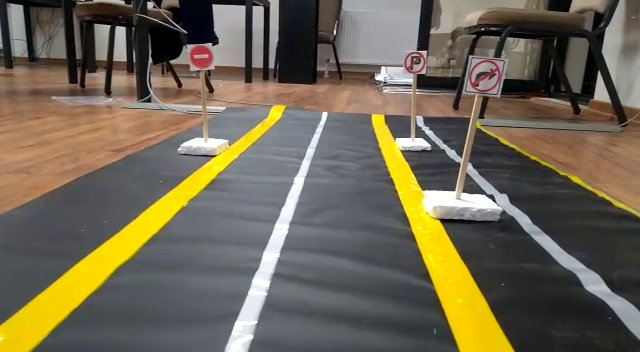girisi_olmayan_yol: (185, 42, 214, 71)
park_yapilmaz: (401, 48, 427, 74)
saga_donulmez: (470, 56, 501, 95)
